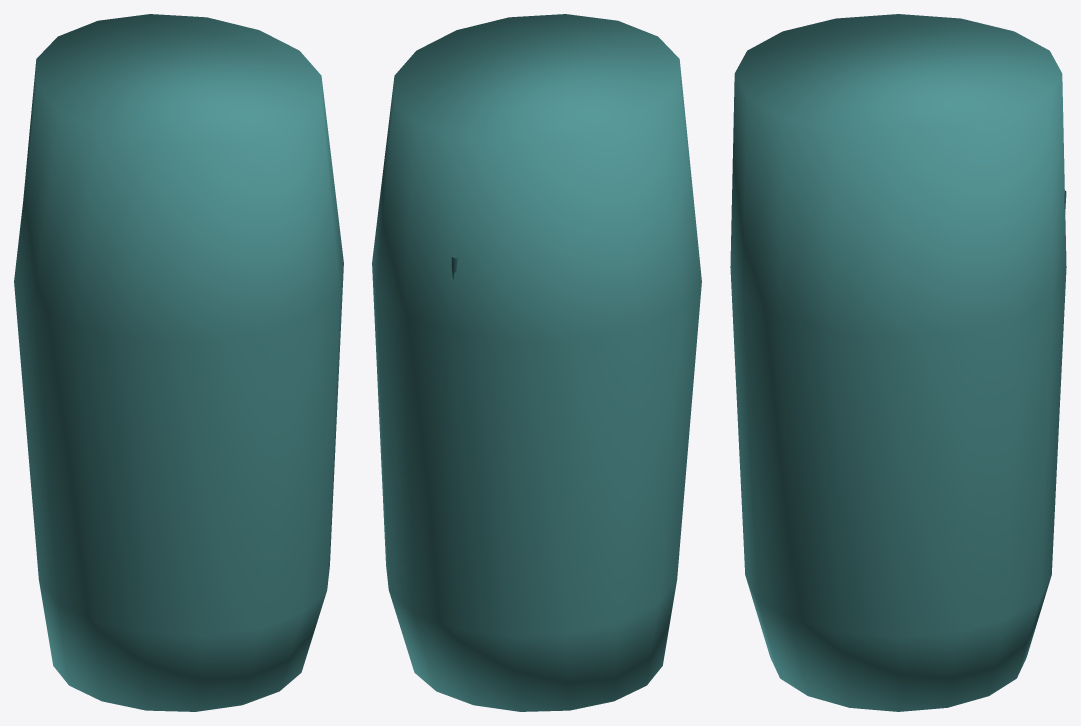
Rendered from SM_Hider_UpperArm.glb.
The picture shows the model from 3 angles, left to right: view 1: azimuth 30°, elevation 25°; view 2: azimuth 150°, elevation 25°; view 3: azimuth 270°, elevation 25°; orthographic projection.
Visible parts, largest first — view 1: SM_Hider_UpperArm; view 2: SM_Hider_UpperArm; view 3: SM_Hider_UpperArm.
Part boxes in pixels (left/top/right/bottom): SM_Hider_UpperArm: left=14, top=14, right=343, bottom=711; SM_Hider_UpperArm: left=372, top=14, right=701, bottom=711; SM_Hider_UpperArm: left=730, top=14, right=1066, bottom=711.
Size of the model in its own units: 0.16 by 0.307 by 0.16.
